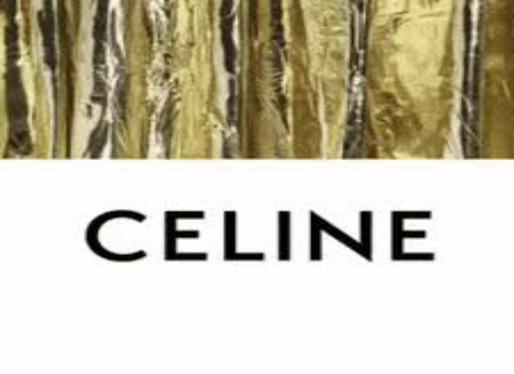CELINE: (86, 206, 427, 267)
